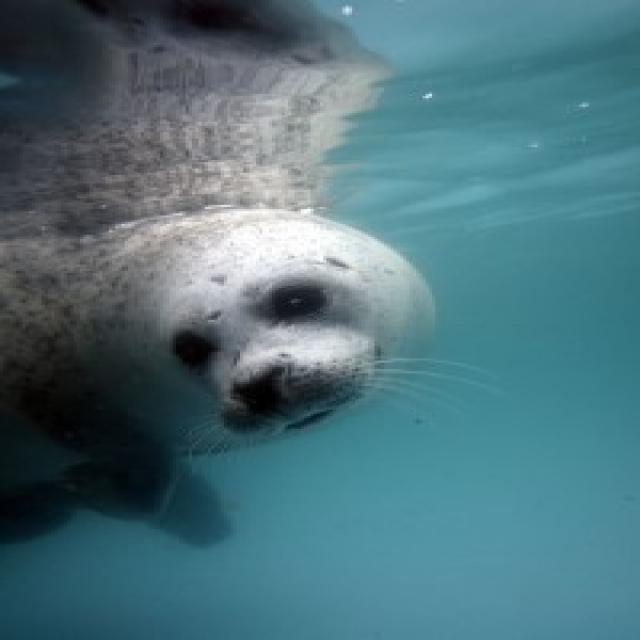Seal: (0, 0, 397, 486)
